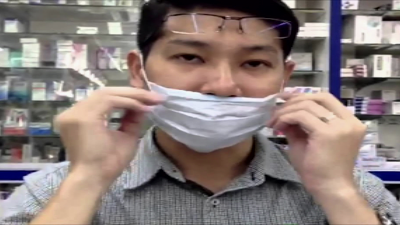mask_weared_incorrect: (143, 37, 288, 154)
